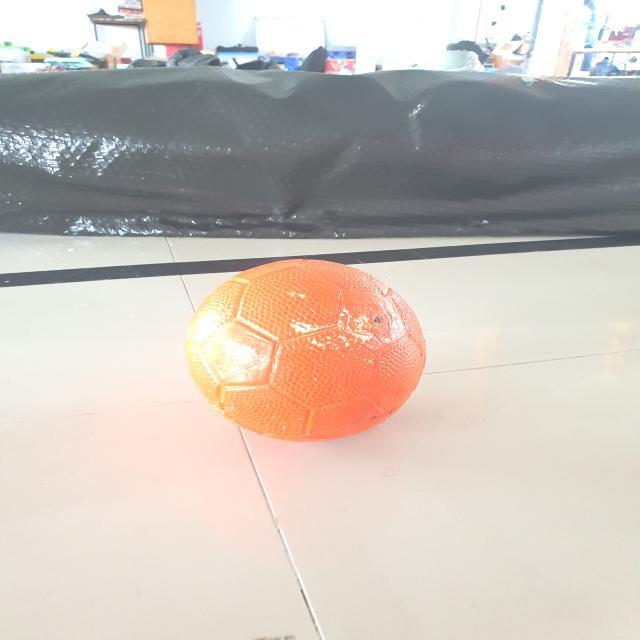bola: (179, 253, 436, 451)
